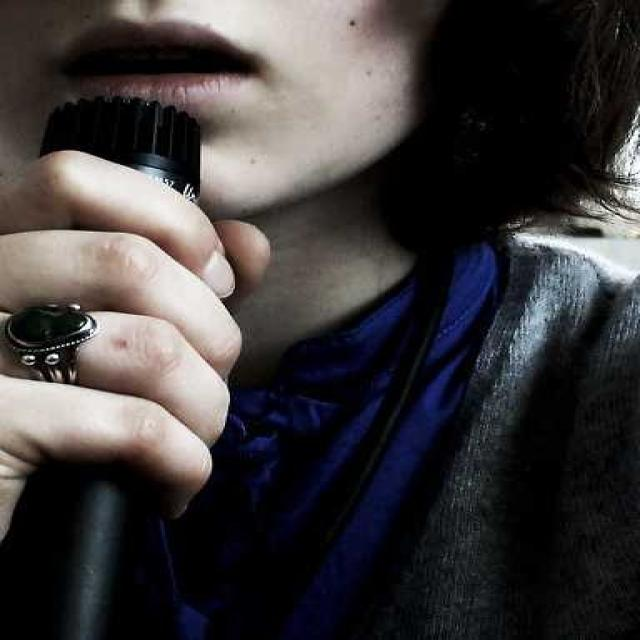microphone: (11, 101, 222, 620)
